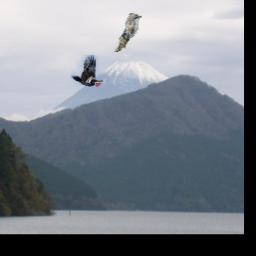Cuckoo: (116, 14, 142, 53)
Woodpecker: (71, 55, 103, 87)
